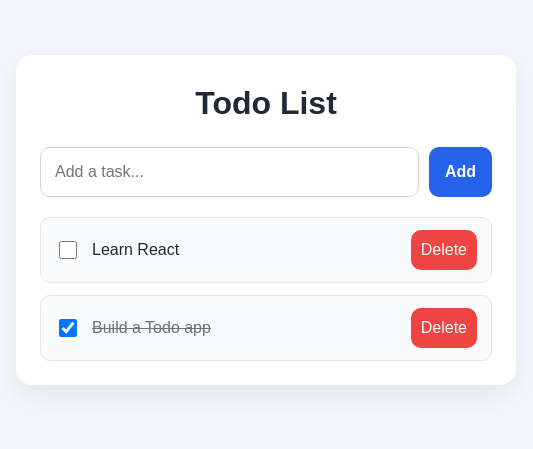
Todo App › adds todo using Enter key
The image size is (533, 449).
Type "Finish project" into the field named "Todo input" at (229, 172), box [40,147,419,197]
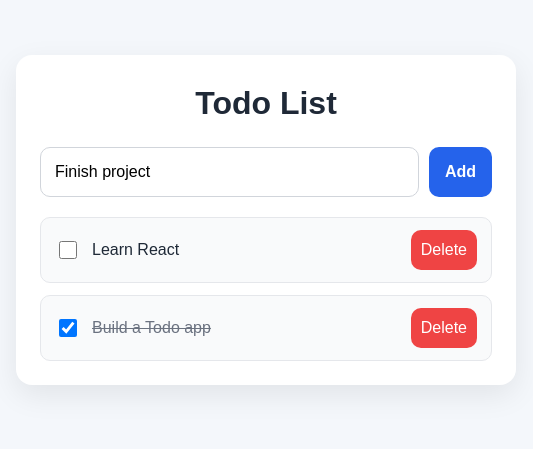
Press Enter in the field named "Todo input", box [40,147,419,197]
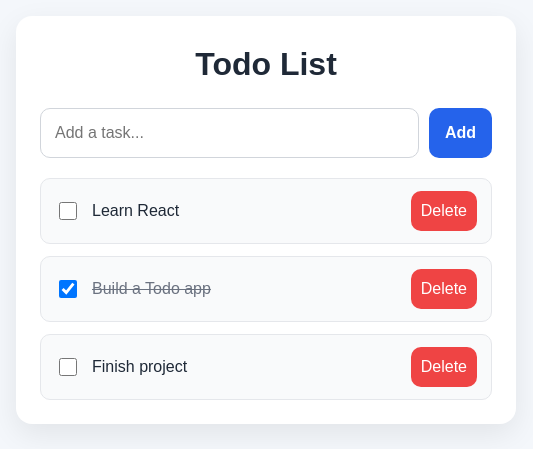
Now the text "Finish project" is shown, box [92,355,187,379]
